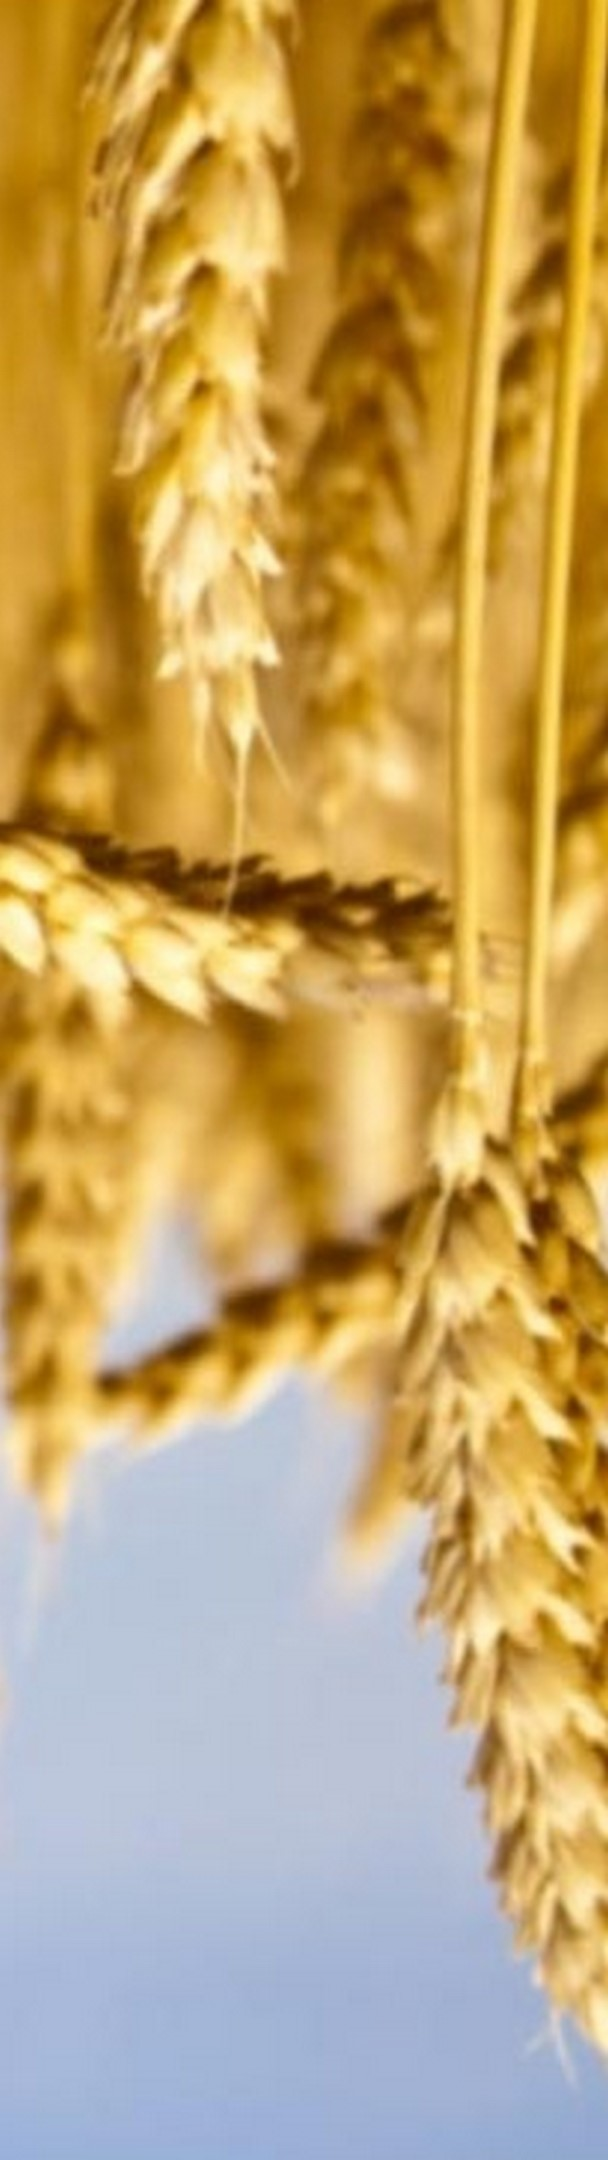Healthy Wheat: (385, 1156, 608, 2037)
